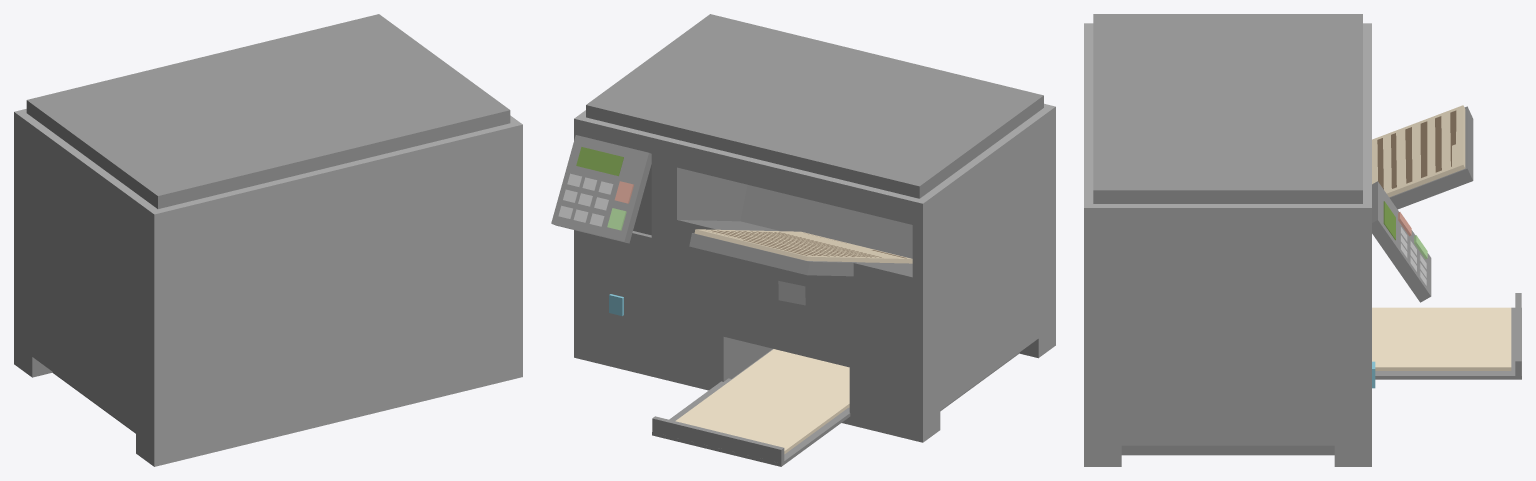
Rendered from Printer.fbx.
The picture shows the model from 3 angles, left to right: view 1: azimuth 30°, elevation 25°; view 2: azimuth 150°, elevation 25°; view 3: azimuth 270°, elevation 25°; orthographic projection. The views are drawn at different scales.
Visible parts, largest first — view 1: Boole_2; view 2: Boole_2; view 3: Boole_2.
Part boxes in pixels (box(x1,y1,x2,y2)): Boole_2: box(14, 14, 522, 466); Boole_2: box(551, 14, 1055, 466); Boole_2: box(1084, 14, 1521, 466).
Bounding box in the file's own units: 64.9 × 44.68 × 65.05.
